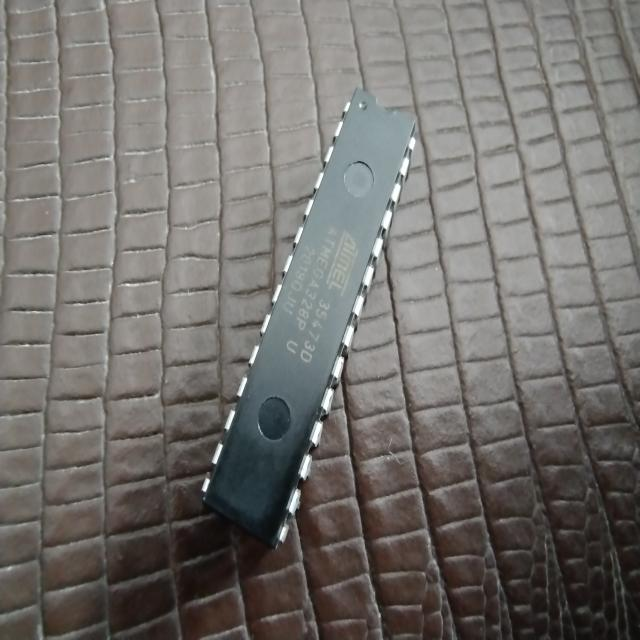atmega: (199, 85, 419, 552)
